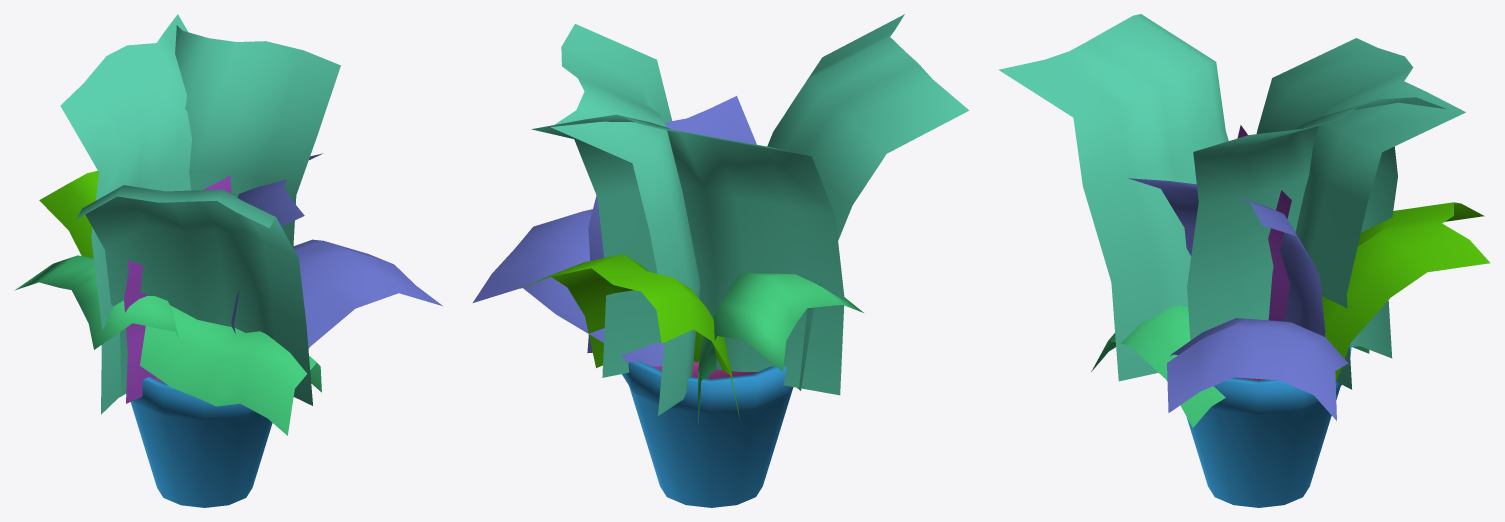
3 renders of one model, left to right at view 1: azimuth 30°, elevation 25°; view 2: azimuth 150°, elevation 25°; view 3: azimuth 270°, elevation 25°, orthographic. The views are drawn at different scales.
Visible parts, largest first — view 1: plant3.005, plant3.001, plant3, flowerPot, plant2.001, plant5, plant2.002, plant1, plant3.002, plant6, plant5.001; view 2: plant3.003, plant3.002, plant3.001, flowerPot, plant5, plant2.002, plant1, plant5.001, plant1.001; view 3: plant3.002, plant3, plant3.004, flowerPot, plant5, plant1, plant5.003, plant2.001, plant6, plant5.001.
Part boxes in pixels (x1,y1,x2,y2): plant3.005: (85,196,312,405); plant3.001: (175,25,340,247); plant3: (60,14,191,414); flowerPot: (130,376,272,507); plant2.001: (140,305,316,435); plant5: (293,239,442,348); plant2.002: (15,255,178,349); plant1: (39,170,98,257); plant3.002: (76,185,275,228); plant6: (124,175,231,403); plant5.001: (231,179,304,333); plant3.003: (531,114,844,395); plant3.002: (767,14,969,390); plant3.001: (551,24,700,415); flowerPot: (622,361,793,507); plant5: (473,209,664,366); plant2.002: (698,273,863,372); plant1: (520,254,739,419); plant5.001: (587,96,756,352); plant1.001: (551,268,729,374); plant3.002: (998,14,1228,381); plant3: (1256,38,1465,389); plant3.004: (1187,97,1445,358); flowerPot: (1186,344,1351,507); plant5: (1167,318,1348,420); plant1: (1321,202,1490,382); plant5.003: (1128,178,1325,400); plant2.001: (1108,305,1225,427); plant6: (1237,125,1291,321); plant5.001: (1235,196,1318,273).
Bounding box in the file's own units: 10.42 × 10.29 × 10.94.
